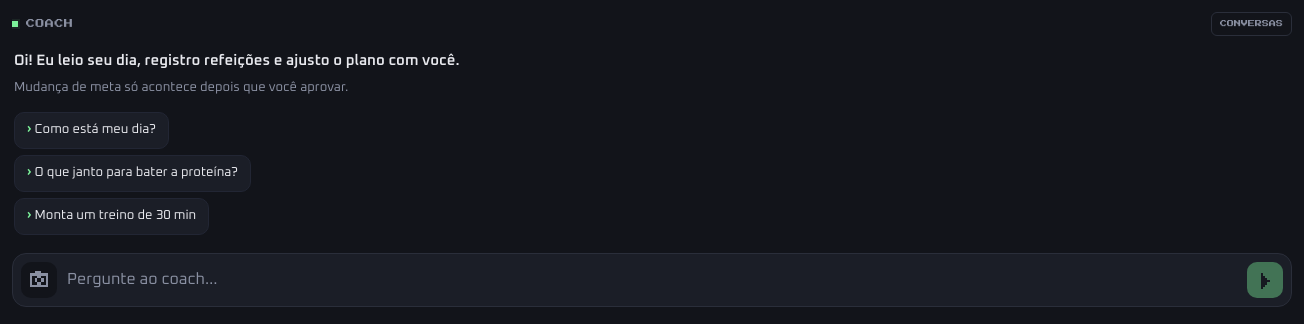
Test: Coach › envia a mensagem e mostra a resposta com os chips das ferramentas
Type "como está meu dia?" into the text box named "mensagem para o coach" at (652, 280), box [63,262,1241,298]
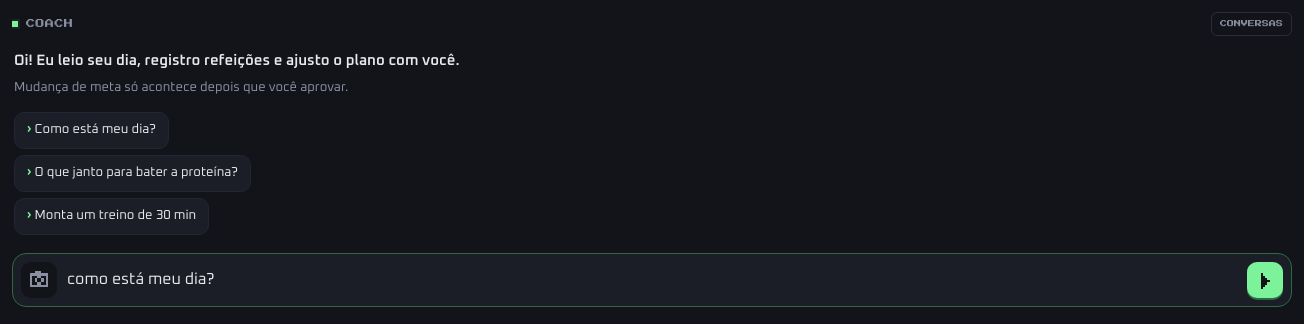
Click the button named "enviar" at (1265, 280), box [1247,262,1283,298]
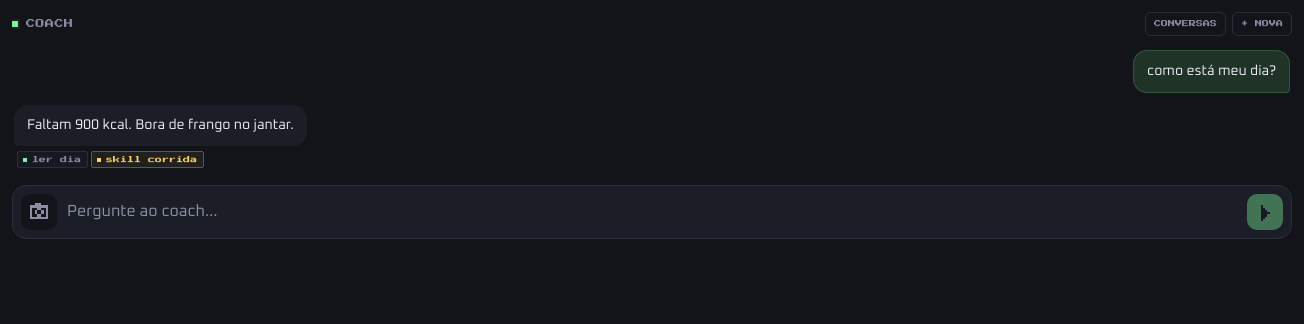
Expected: the text "como está meu dia?" is shown, [1147,61,1276,82]
Result: the text "Faltam 900 kcal. Bora de frango no jantar." is shown at [27,115,294,136]
Result: the list item "ler dia" is shown at [18,152,87,167]
